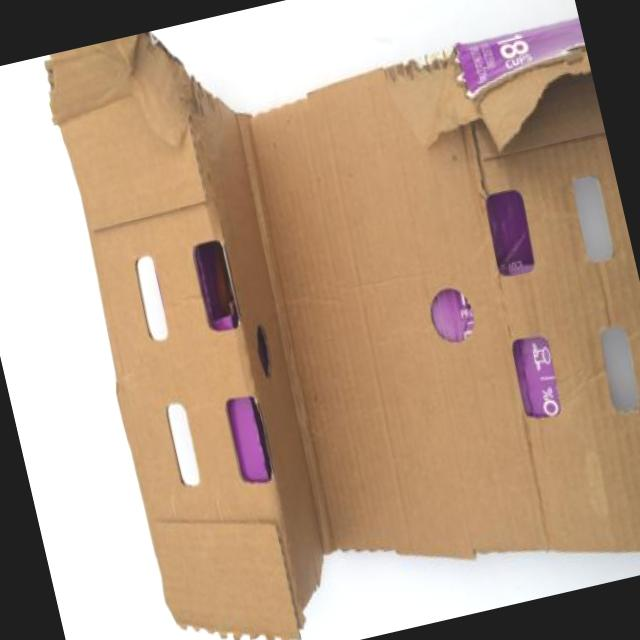cardboard: (48, 34, 639, 639)
